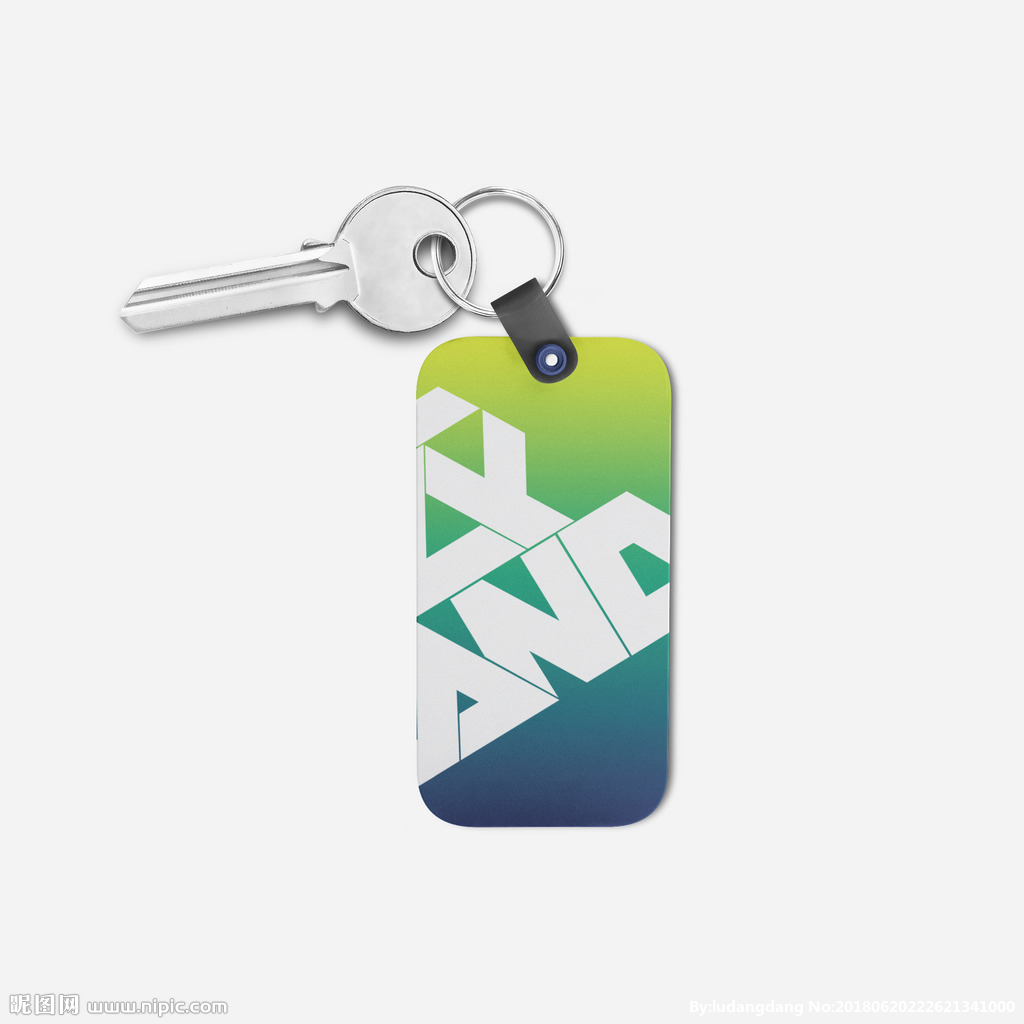key: (114, 171, 478, 345)
